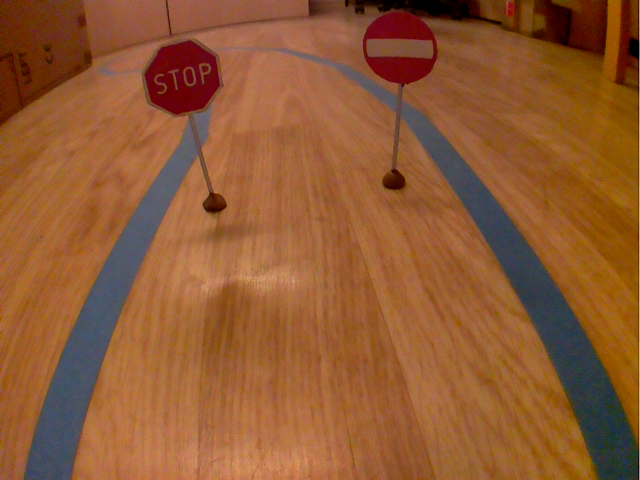Stop: (137, 34, 227, 121)
Zakaz: (360, 6, 441, 89)
